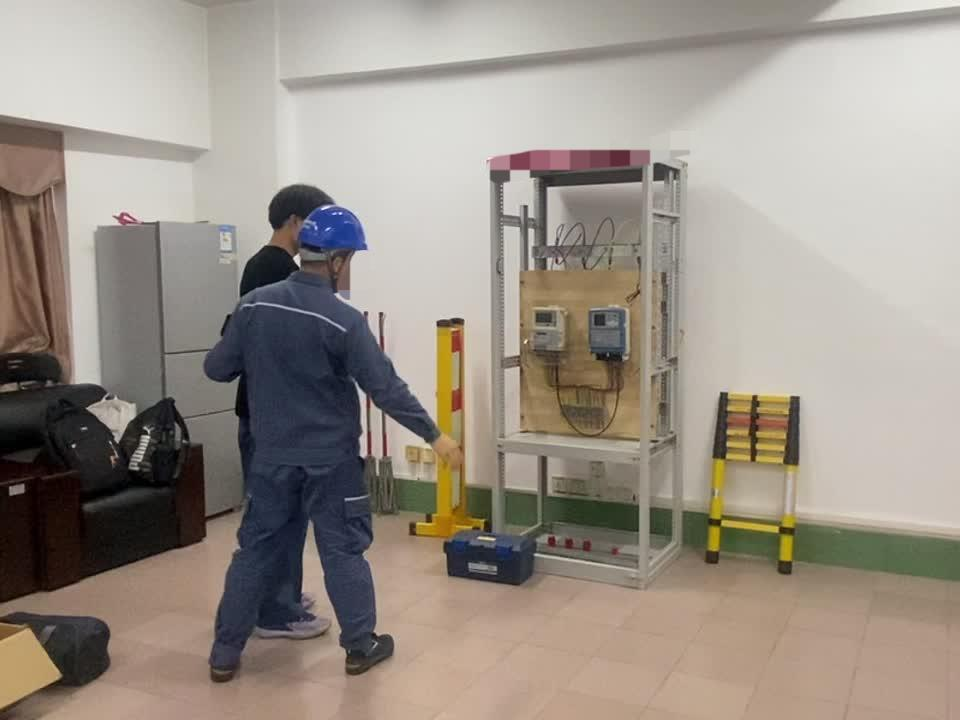halt: (296, 213, 373, 289)
inear: (326, 252, 354, 286)
noear: (282, 212, 306, 246)
unhalt: (268, 185, 336, 252)
